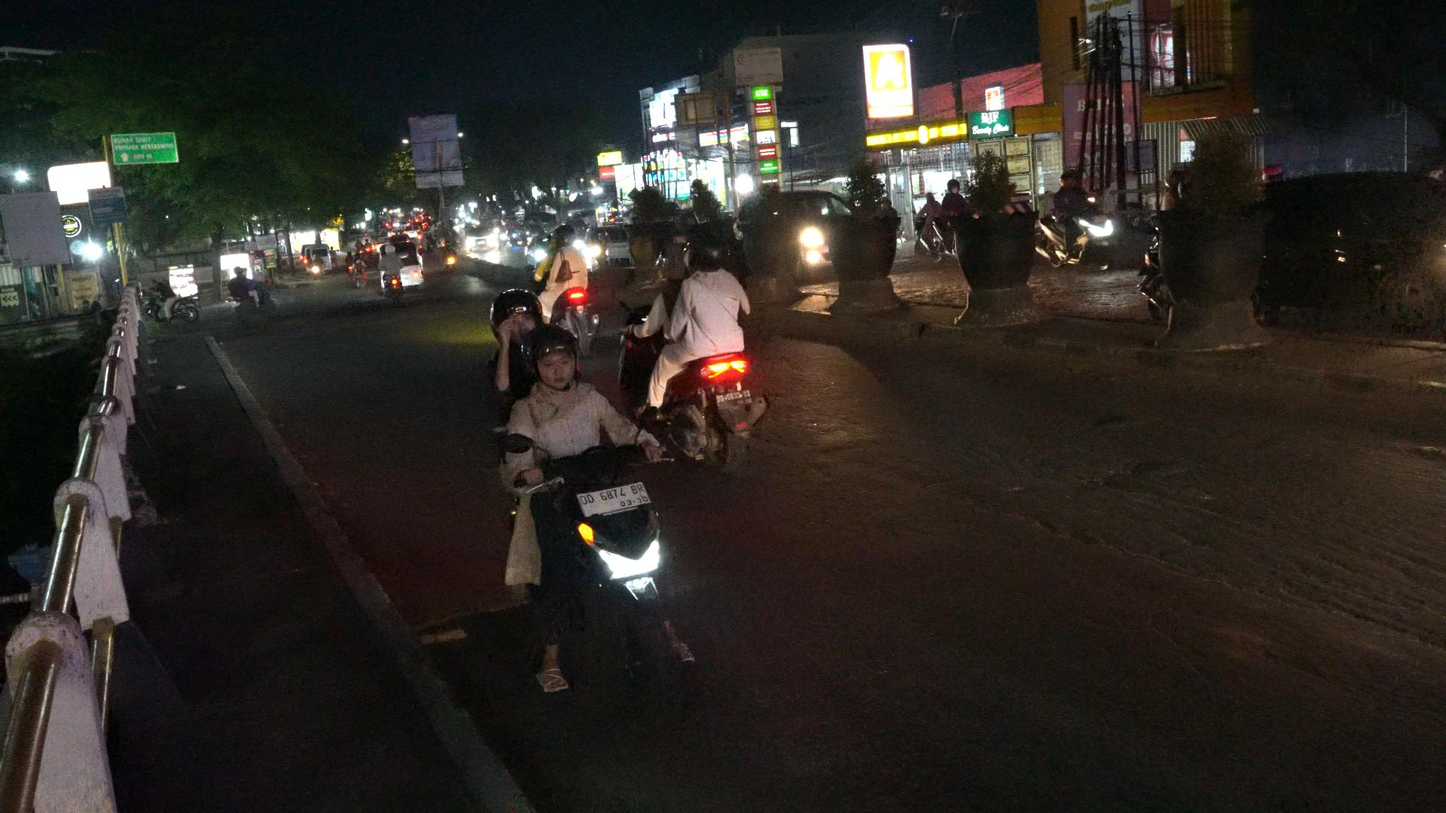number-plate: (574, 478, 654, 518)
